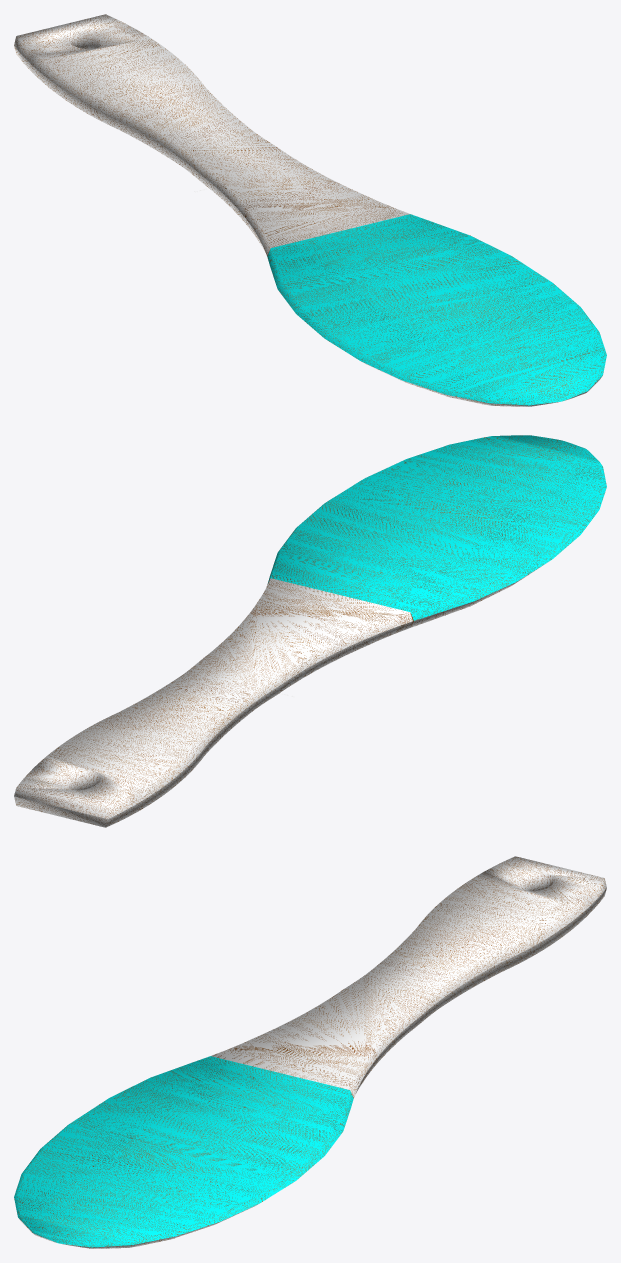
The model's file is spoon_01_origin_gt_3.dae.
The picture shows the model from 3 angles, top to bottom: view 1: azimuth 30°, elevation 25°; view 2: azimuth 150°, elevation 25°; view 3: azimuth 330°, elevation 25°; orthographic projection.
Visible parts, largest first — view 1: Wooden_Rice_Spoon (×2); view 2: Wooden_Rice_Spoon (×2); view 3: Wooden_Rice_Spoon (×2).
Boxes of the visible parts, left/top/right/bottom form: Wooden_Rice_Spoon (×2): left=14, top=14, right=606, bottom=406; Wooden_Rice_Spoon (×2): left=14, top=435, right=606, bottom=827; Wooden_Rice_Spoon (×2): left=14, top=856, right=606, bottom=1248.
Size of the model in its own units: 2.36 by 8.97 by 0.2267.
4 materials, 1 textured.
